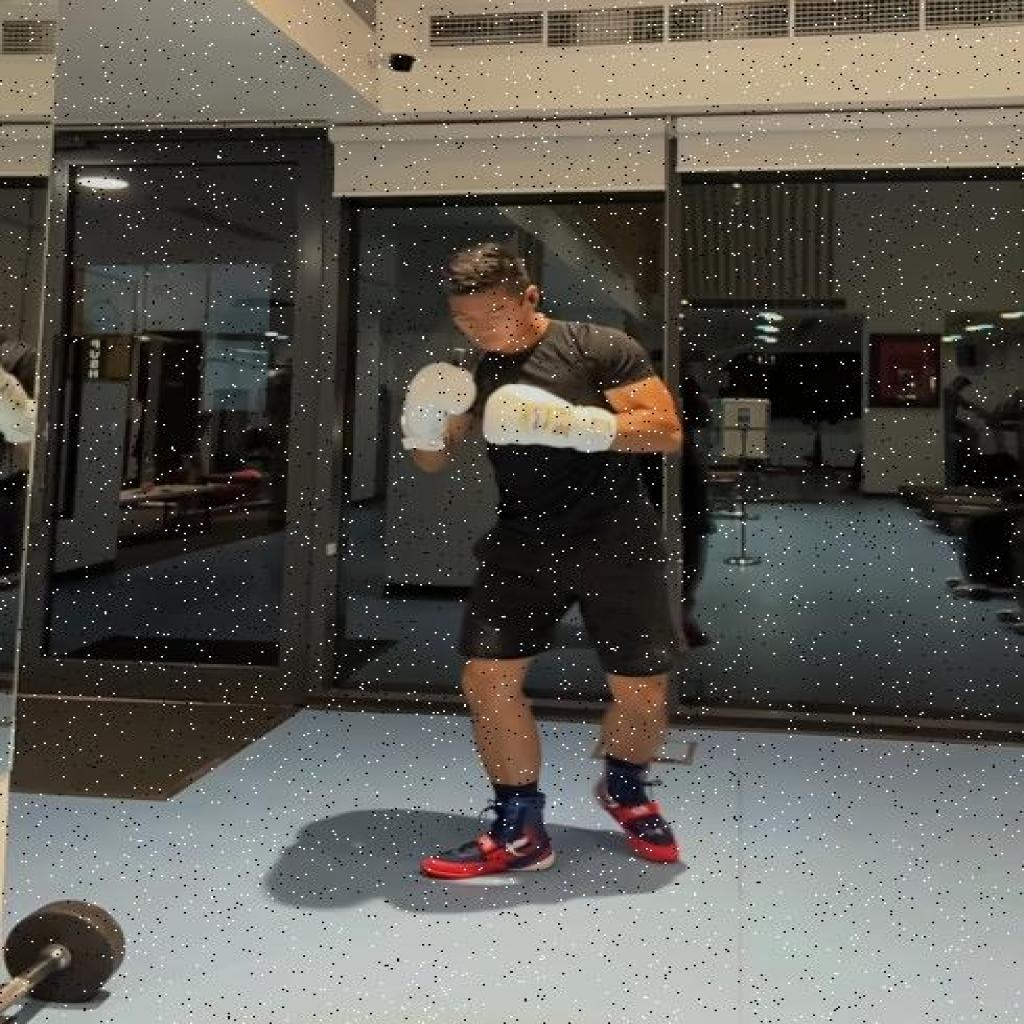no punch: (395, 242, 700, 888)
